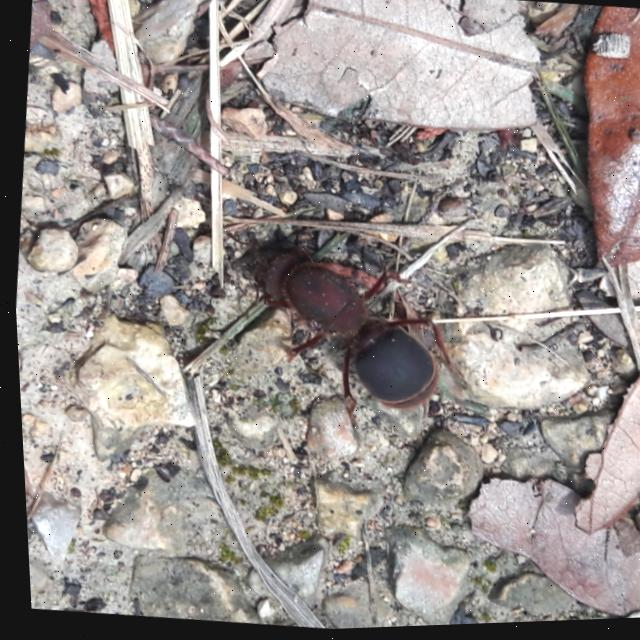Alive-Female-Dealate: (204, 223, 474, 442)
